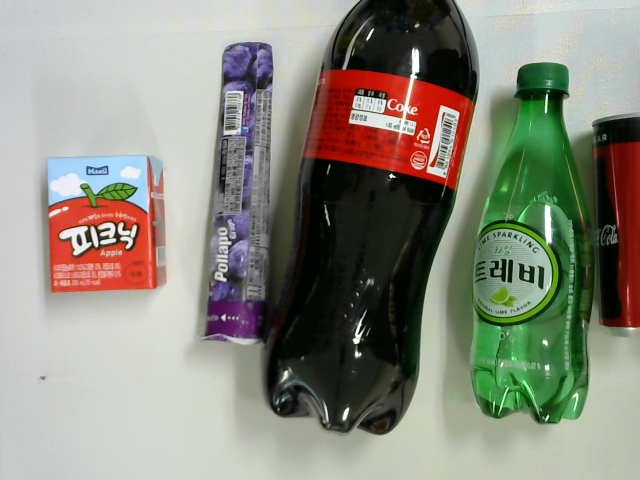Coca_Cola_1.5L: (268, 1, 482, 437)
Coca_Cola_Zero_Can_250ml: (596, 111, 640, 340)
Picnic_Apple: (42, 155, 170, 295)
Polapo_Grape: (202, 39, 277, 345)
Treviraim_500ml: (468, 56, 596, 430)
